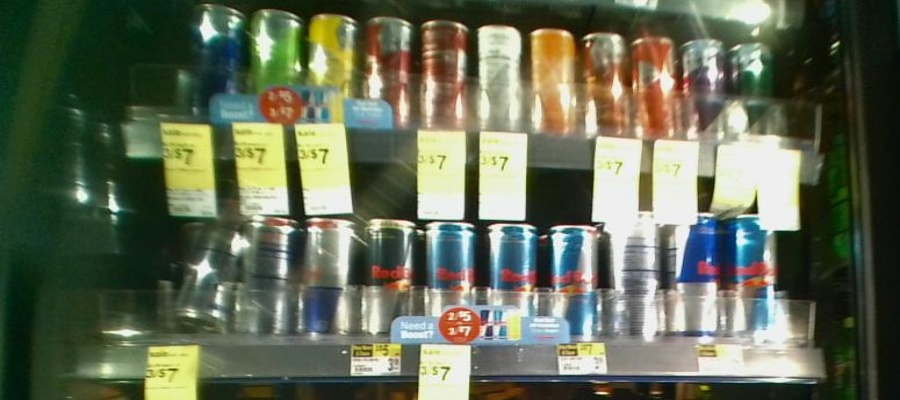bottle: (423, 211, 482, 342), (611, 204, 664, 344), (726, 211, 780, 347), (242, 211, 300, 334), (417, 16, 473, 137), (361, 215, 415, 340), (670, 209, 719, 346), (487, 217, 541, 339), (188, 3, 242, 124), (246, 4, 300, 124), (304, 214, 355, 340), (549, 220, 600, 338), (366, 12, 415, 131), (308, 11, 359, 122), (528, 24, 578, 135), (584, 27, 632, 140), (480, 18, 524, 136), (636, 33, 681, 142), (685, 36, 730, 143), (735, 42, 778, 142)
